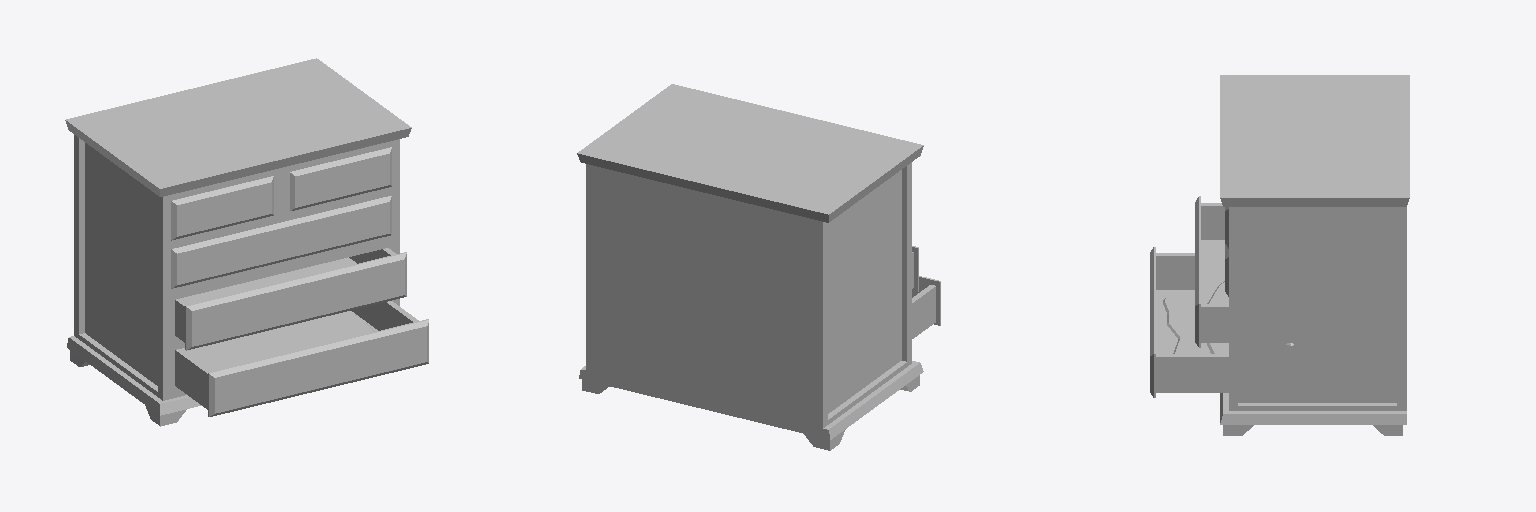
Rendered from Dresser_opened.obj.
The picture shows the model from 3 angles: view 1: azimuth 30°, elevation 25°; view 2: azimuth 150°, elevation 25°; view 3: azimuth 270°, elevation 25°; orthographic projection.
Parts seen in each view (by area): view 1: Dresser01_LOD0.001_Cube.047; view 2: Dresser01_LOD0.001_Cube.047; view 3: Dresser01_LOD0.001_Cube.047.
Part boxes in pixels (left/top/right/bottom): Dresser01_LOD0.001_Cube.047: left=65, top=58, right=428, bottom=426; Dresser01_LOD0.001_Cube.047: left=577, top=84, right=940, bottom=450; Dresser01_LOD0.001_Cube.047: left=1150, top=75, right=1409, bottom=435.
Bounding box in the file's own units: 1.33 × 1.2 × 1.19.